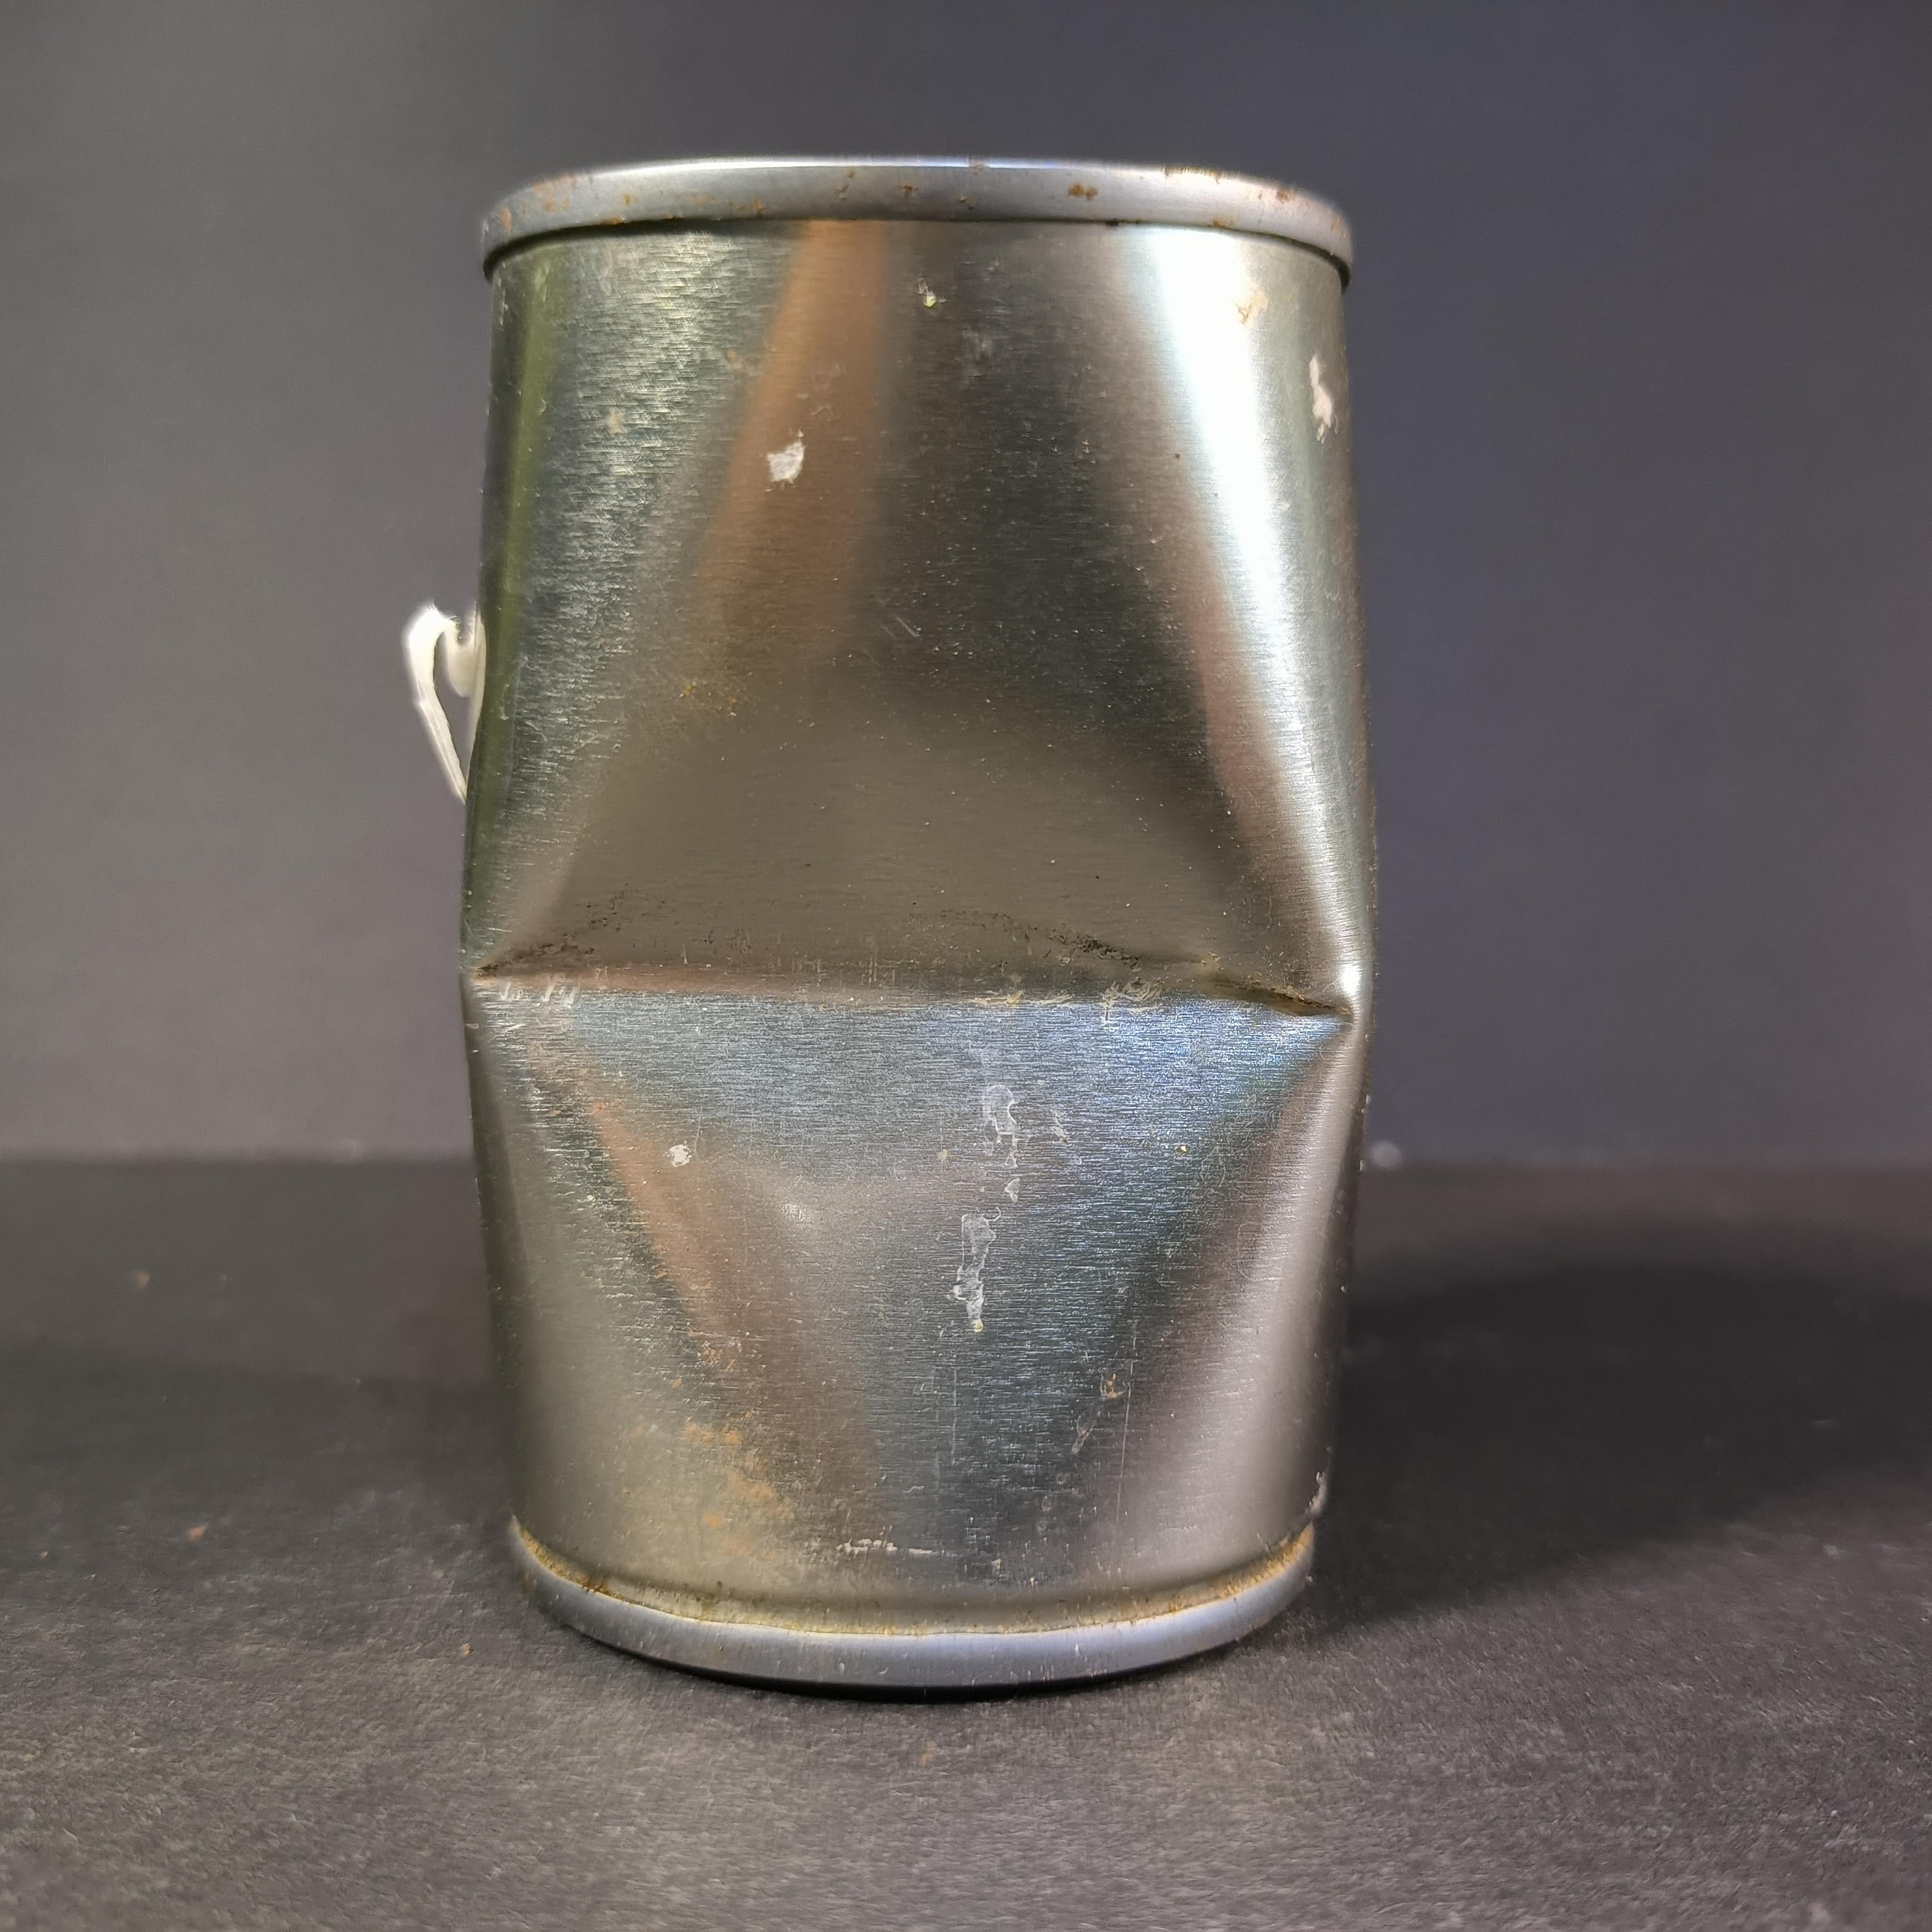Dented: (442, 127, 1410, 1741)
